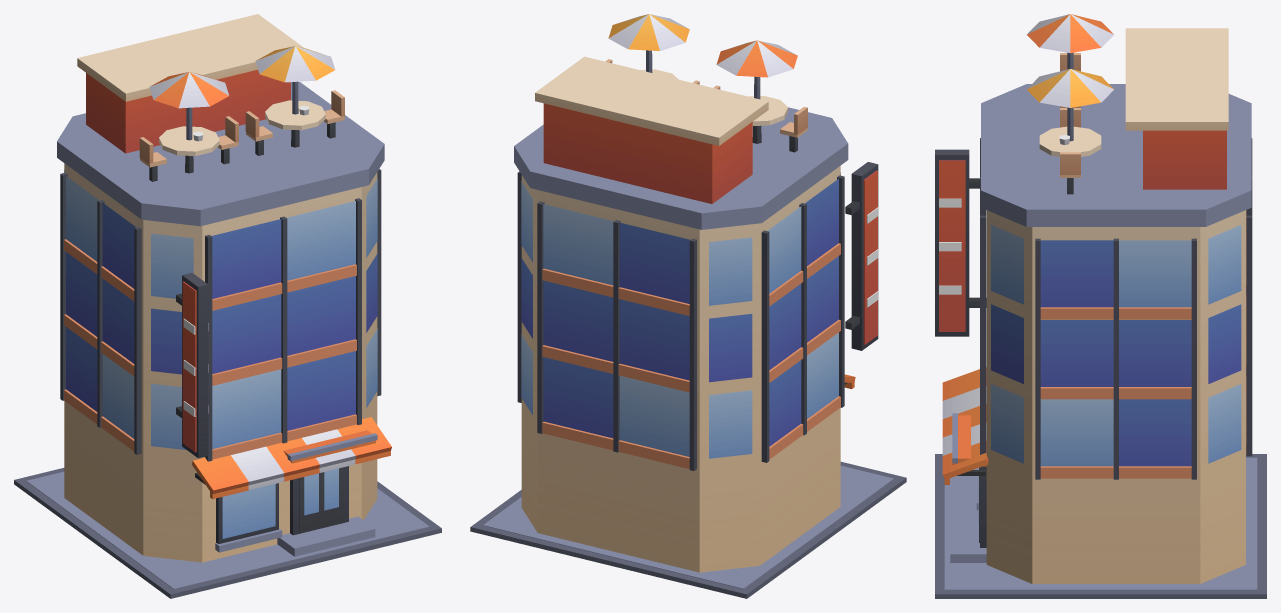
Rendered from com_rooftop_lounge_1x1.glb.
3 renders of one model, left to right at view 1: azimuth 30°, elevation 25°; view 2: azimuth 150°, elevation 25°; view 3: azimuth 270°, elevation 25°, orthographic. The views are drawn at different scales.
Visible parts, largest first — view 1: com_rooftop_lounge_1x1; view 2: com_rooftop_lounge_1x1; view 3: com_rooftop_lounge_1x1.
Part boxes in pixels (bbox=[...]): com_rooftop_lounge_1x1: bbox=[14, 14, 441, 598]; com_rooftop_lounge_1x1: bbox=[470, 14, 906, 598]; com_rooftop_lounge_1x1: bbox=[935, 14, 1266, 598].
Bounding box in the file's own units: 1.74 × 2.82 × 1.74.
1 material, 1 textured.
